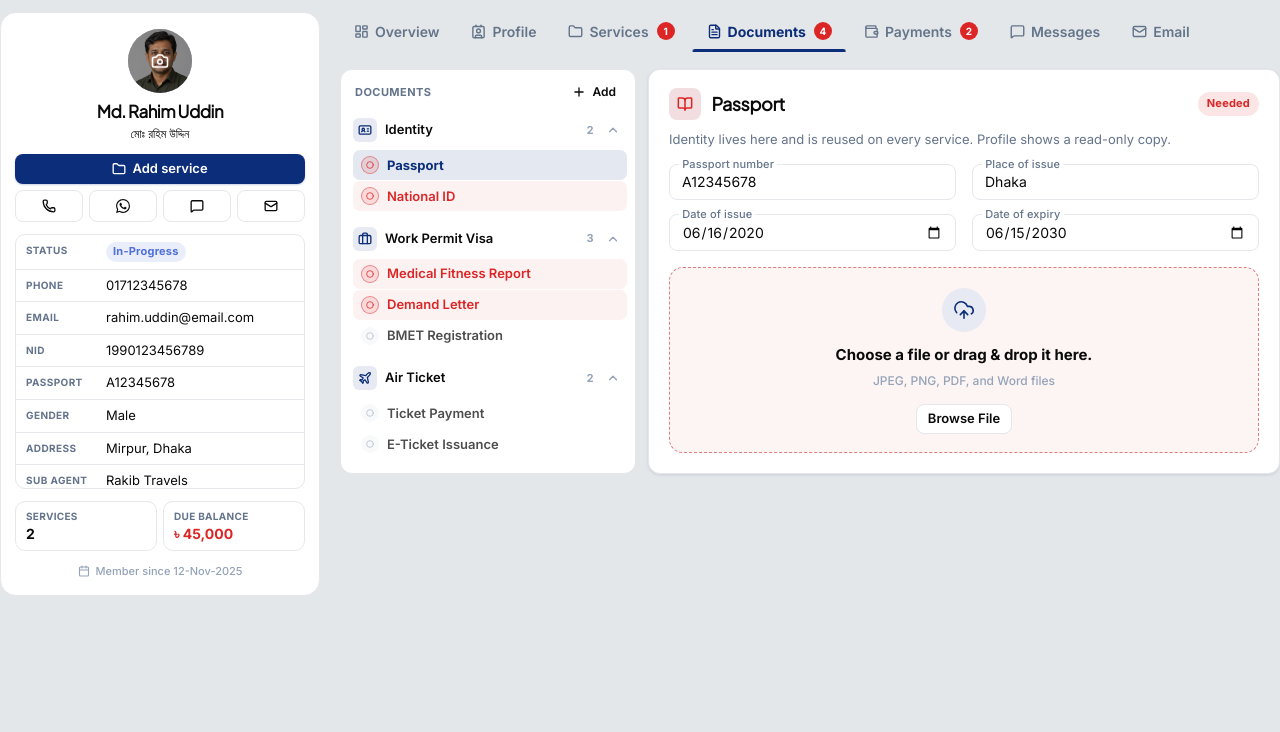
Test case: client documents tab › edits passport fields in the document workspace
expect the button "Save" is not shown: met
expect the date field labelled "Date of expiry" holds "2030-06-15": met, box 972,214 -> 1259,251
Replace the text in the field labelled "Passport number" with "B99998888" at (812, 182), box 669,164 -> 956,200
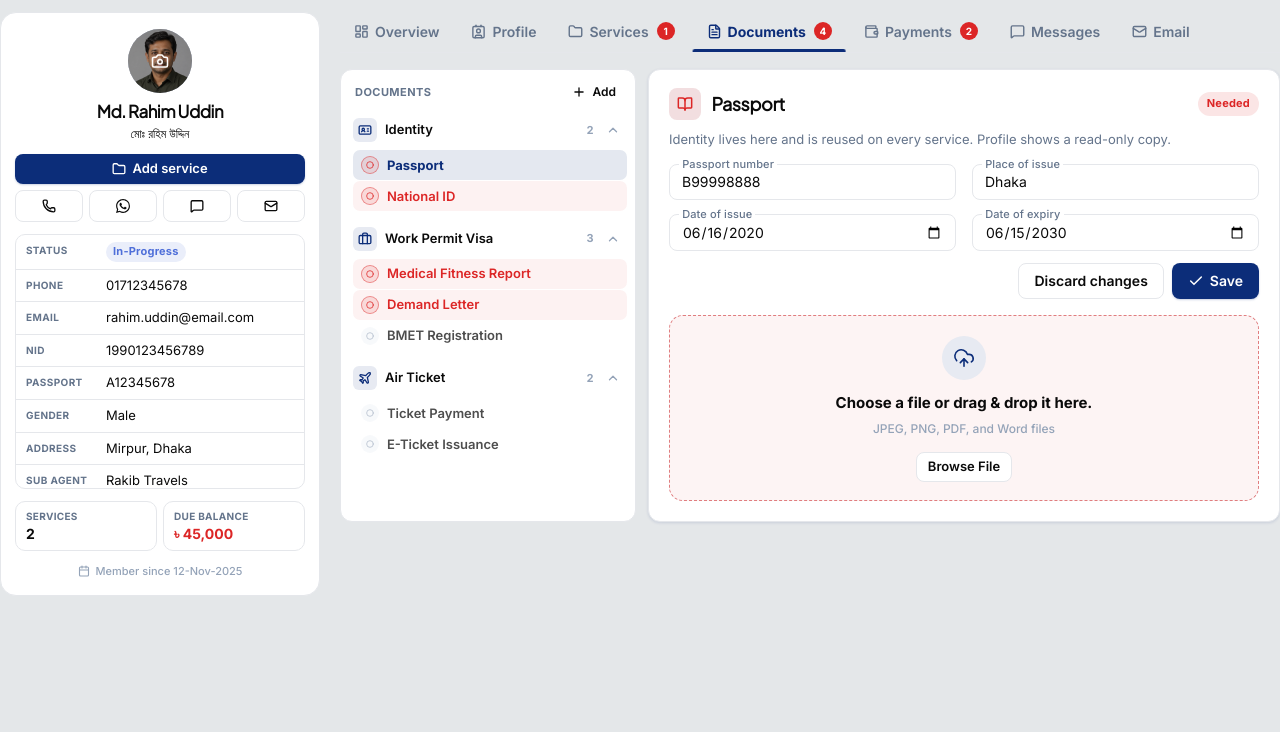
expect the button "Save" is shown: met, box 1172,263 -> 1259,299
Click the button "Discard changes" at (1091, 281), box 1018,263 -> 1164,299
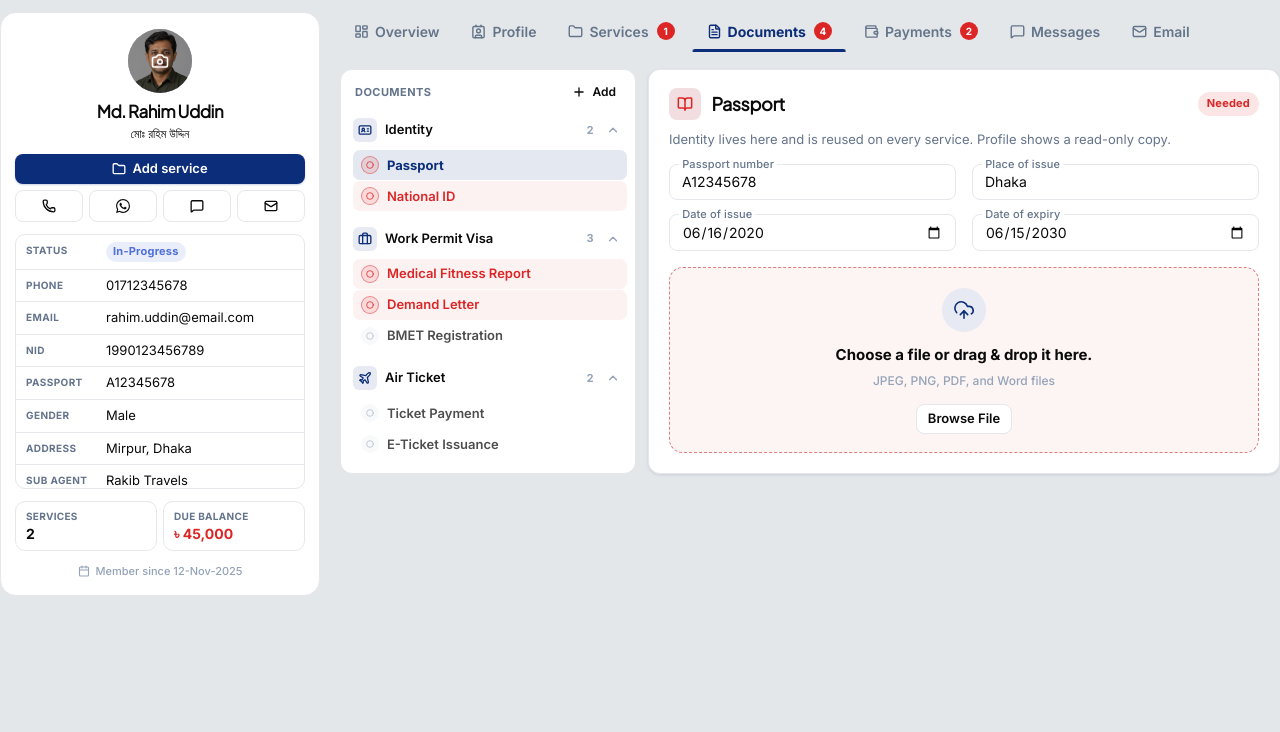
expect the field labelled "Passport number" holds "A12345678": met, box 669,164 -> 956,200
expect the button "Save" is gone: met
